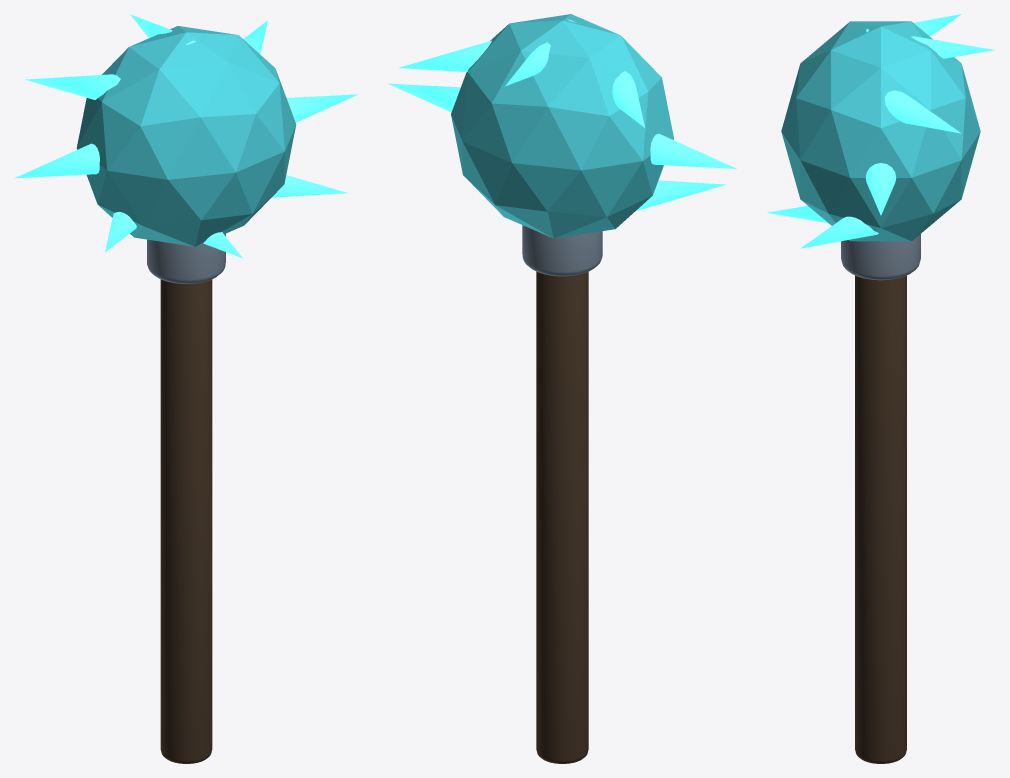
Rendered from hammer_v8.glb.
3 views of the same model, side by side, from view 1: azimuth 30°, elevation 25°; view 2: azimuth 150°, elevation 25°; view 3: azimuth 270°, elevation 25° (orthographic).
Parts seen in each view (by area): view 1: MACE_CORE_ACCENT, HAMMER_HAFT_SECONDARY, MACE_NECK_PRIMARY, MACE_SPIKE_EMISSIVE.004, MACE_SPIKE_EMISSIVE.003, MACE_SPIKE_EMISSIVE, MACE_SPIKE_EMISSIVE.007, MACE_SPIKE_EMISSIVE.005; view 2: MACE_CORE_ACCENT, HAMMER_HAFT_SECONDARY, MACE_NECK_PRIMARY, MACE_SPIKE_EMISSIVE.004, MACE_SPIKE_EMISSIVE.001, MACE_SPIKE_EMISSIVE.005, MACE_SPIKE_EMISSIVE.003, MACE_SPIKE_EMISSIVE, MACE_SPIKE_EMISSIVE.002; view 3: MACE_CORE_ACCENT, HAMMER_HAFT_SECONDARY, MACE_NECK_PRIMARY, MACE_SPIKE_EMISSIVE.001, MACE_SPIKE_EMISSIVE.007, MACE_SPIKE_EMISSIVE, MACE_SPIKE_EMISSIVE.002, MACE_SPIKE_EMISSIVE.006, MACE_SPIKE_EMISSIVE.003.
Part boxes in pixels (x1,y1,x2,y2): MACE_CORE_ACCENT: [76, 26, 296, 246]; HAMMER_HAFT_SECONDARY: [160, 279, 212, 763]; MACE_NECK_PRIMARY: [147, 233, 225, 283]; MACE_SPIKE_EMISSIVE.004: [15, 143, 99, 178]; MACE_SPIKE_EMISSIVE.003: [25, 74, 120, 99]; MACE_SPIKE_EMISSIVE: [286, 94, 357, 122]; MACE_SPIKE_EMISSIVE.007: [272, 175, 348, 197]; MACE_SPIKE_EMISSIVE.005: [105, 212, 136, 252]; MACE_CORE_ACCENT: [451, 14, 673, 238]; HAMMER_HAFT_SECONDARY: [536, 271, 588, 763]; MACE_NECK_PRIMARY: [522, 225, 602, 276]; MACE_SPIKE_EMISSIVE.004: [650, 133, 736, 168]; MACE_SPIKE_EMISSIVE.001: [399, 40, 491, 71]; MACE_SPIKE_EMISSIVE.005: [636, 180, 725, 210]; MACE_SPIKE_EMISSIVE.003: [612, 71, 644, 127]; MACE_SPIKE_EMISSIVE: [388, 83, 460, 112]; MACE_SPIKE_EMISSIVE.002: [505, 19, 576, 86]; MACE_CORE_ACCENT: [781, 21, 980, 241]; HAMMER_HAFT_SECONDARY: [855, 275, 906, 763]; MACE_NECK_PRIMARY: [841, 234, 920, 280]; MACE_SPIKE_EMISSIVE.001: [884, 90, 961, 133]; MACE_SPIKE_EMISSIVE.007: [800, 216, 878, 248]; MACE_SPIKE_EMISSIVE: [865, 163, 896, 215]; MACE_SPIKE_EMISSIVE.002: [866, 28, 994, 58]; MACE_SPIKE_EMISSIVE.006: [767, 205, 828, 223]; MACE_SPIKE_EMISSIVE.003: [914, 14, 961, 36].
Size of the model in its own units: 2.01 by 4.03 by 1.15.
